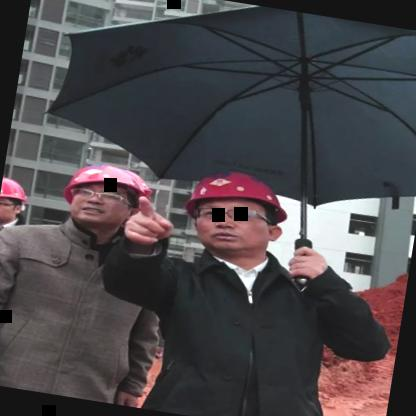helmet: (176, 162, 294, 265), (54, 156, 164, 246), (0, 172, 35, 229)
